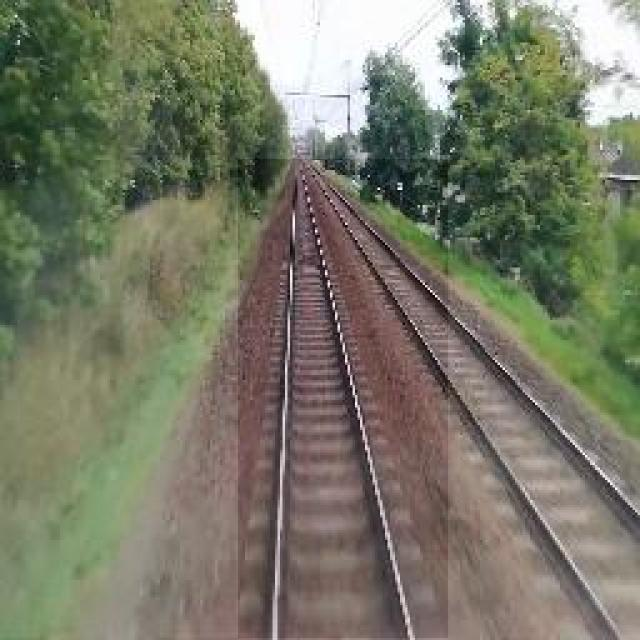rail: (240, 160, 449, 639)
